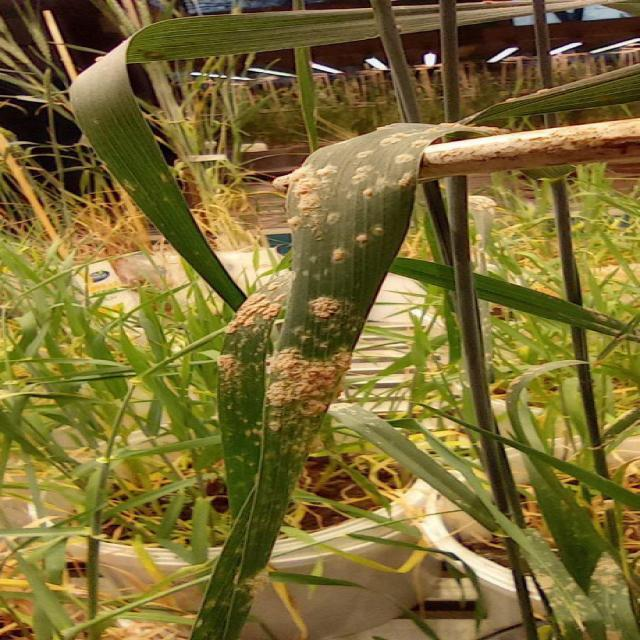wheat-powdery-mildew: (189, 122, 489, 640)
